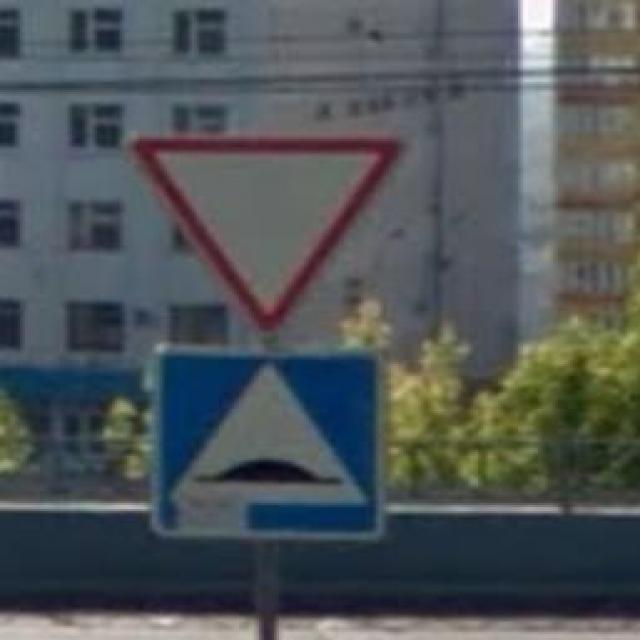Ustap pierwszenstwa: (127, 131, 413, 339)
